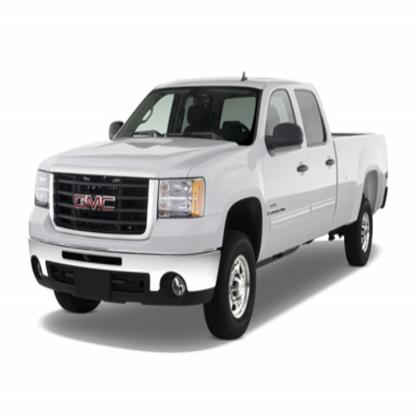Truck: (29, 71, 388, 339)
